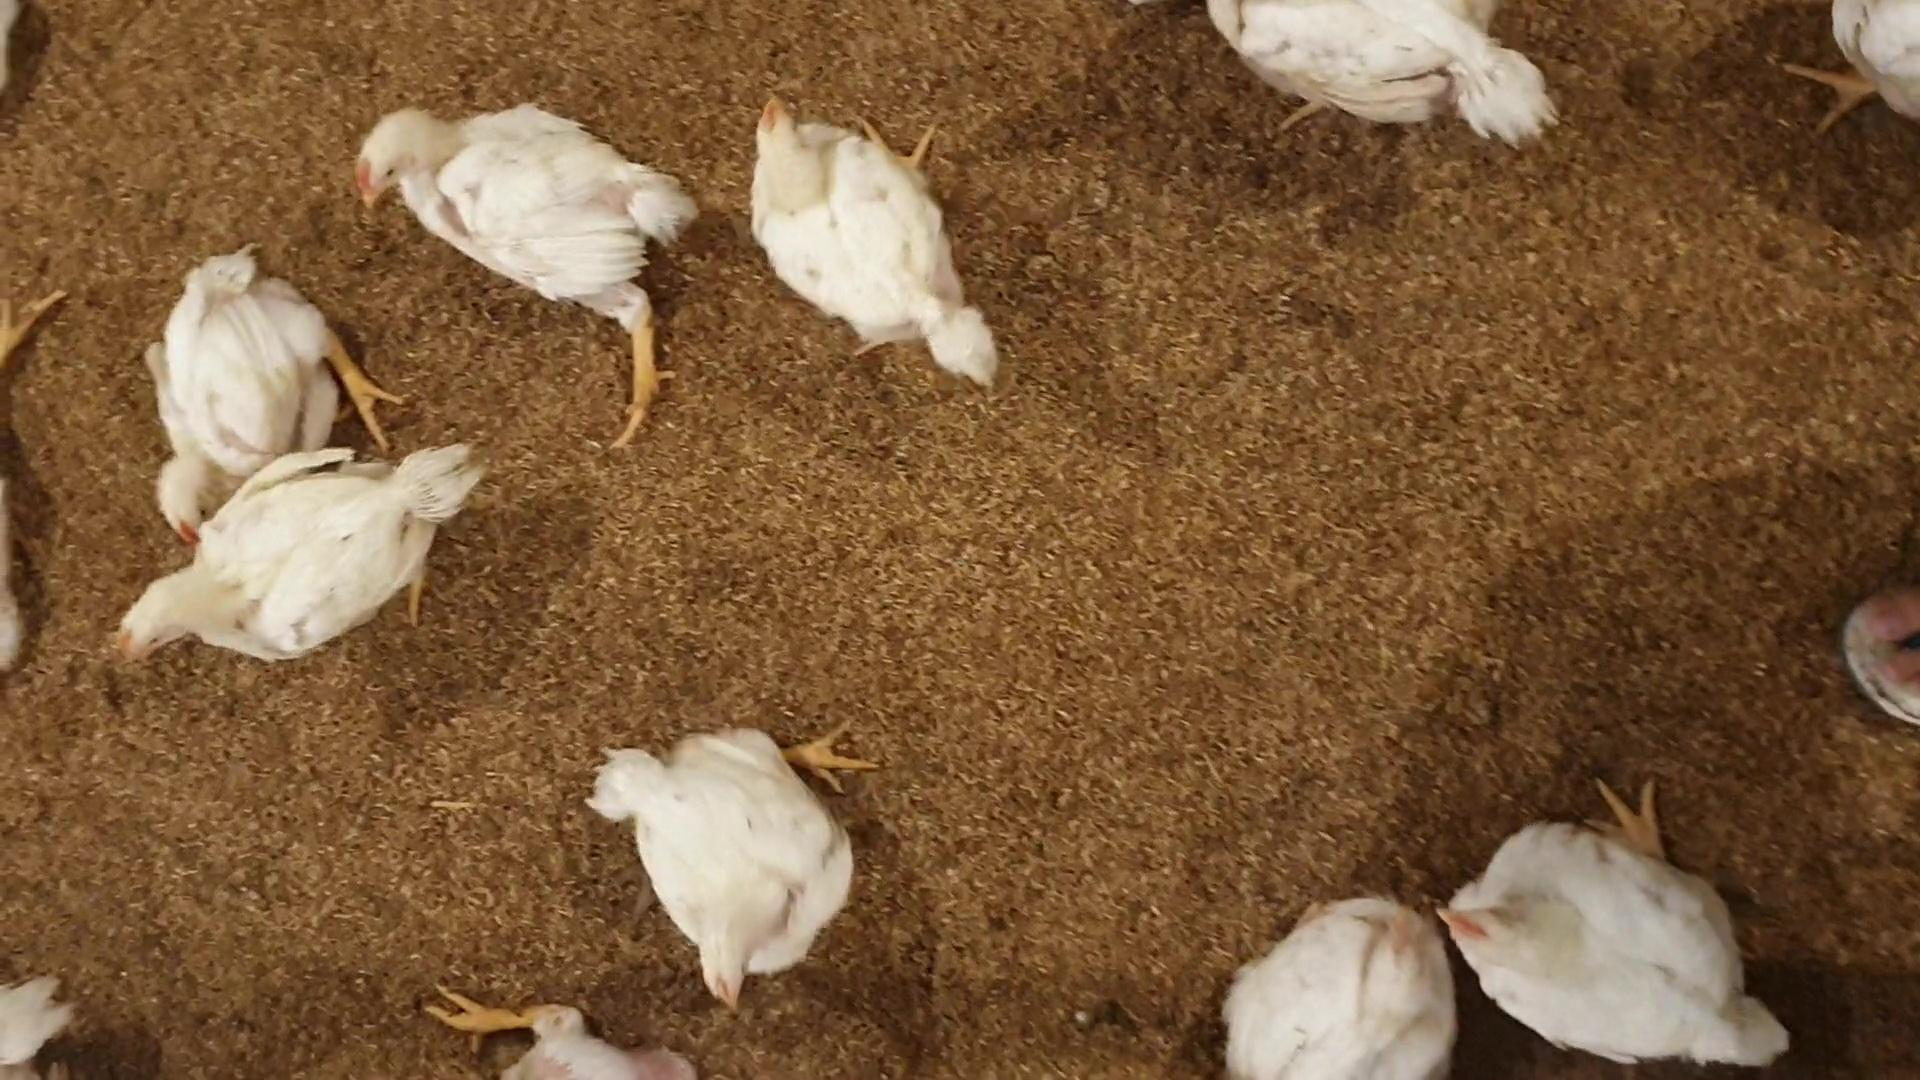Pollos: (1441, 808, 1796, 1068), (583, 719, 882, 996), (746, 98, 1006, 389), (356, 100, 690, 302), (113, 496, 427, 670), (150, 252, 331, 521)
